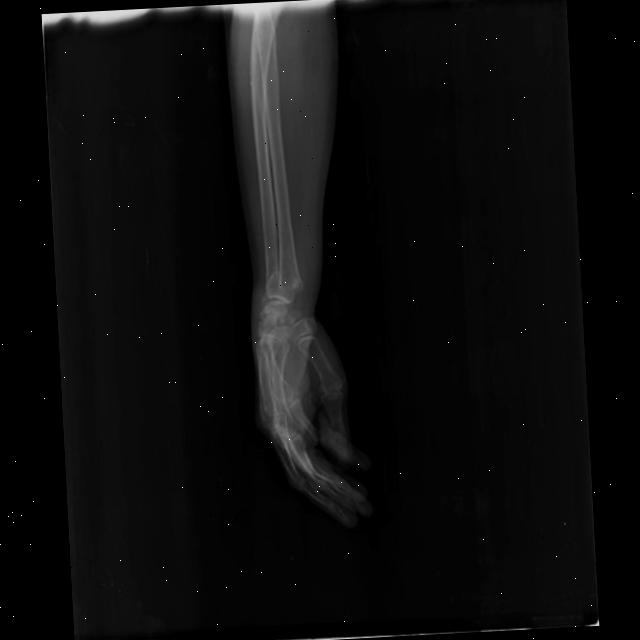Fracture: (264, 267, 307, 307)
